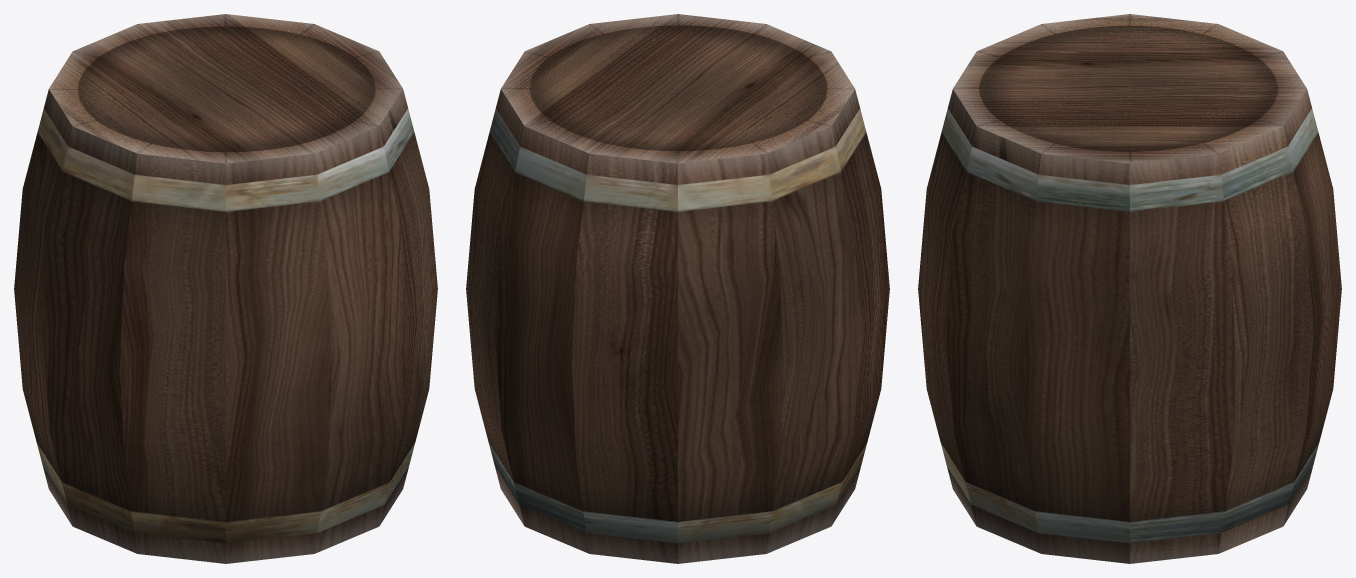
File: keg.fbx
3 views of the same model, side by side, from view 1: azimuth 30°, elevation 25°; view 2: azimuth 150°, elevation 25°; view 3: azimuth 270°, elevation 25° (orthographic).
Parts seen in each view (by area): view 1: pCylinder1; view 2: pCylinder1; view 3: pCylinder1.
Boxes of the visible parts, box(x1,y1,x2,y2) form: pCylinder1: box(14, 14, 437, 563); pCylinder1: box(466, 14, 889, 563); pCylinder1: box(918, 14, 1341, 563).
Bounding box in the file's own units: 1.92 × 2 × 1.92.
